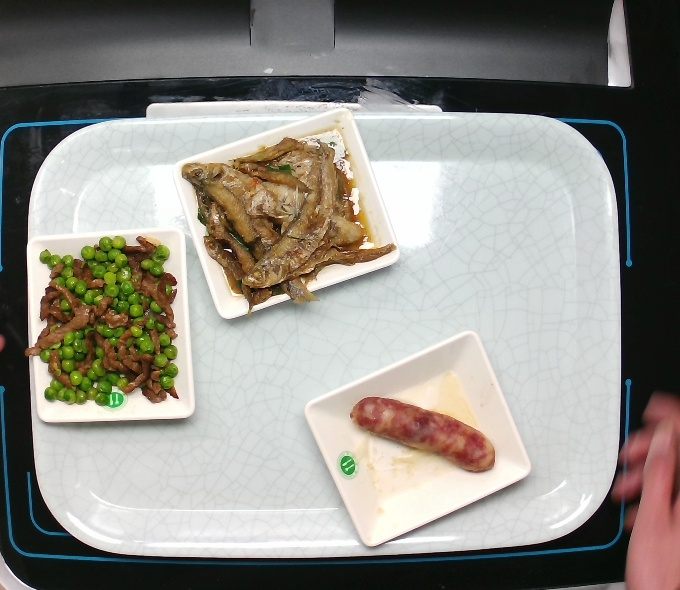wcq-CanDouNiuRou: (35, 235, 181, 408)
wcq-XiangChang: (349, 393, 497, 474)
wcq-XiaoJiYu: (181, 129, 399, 311)
